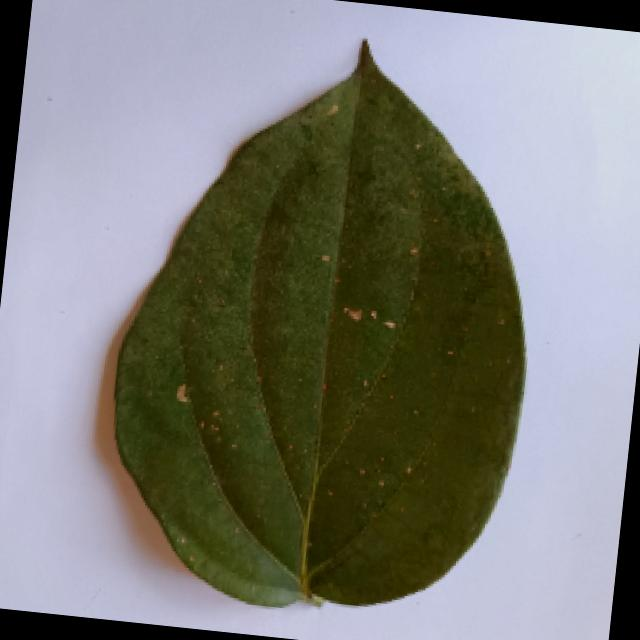pollu-disease: (64, 15, 586, 626)
